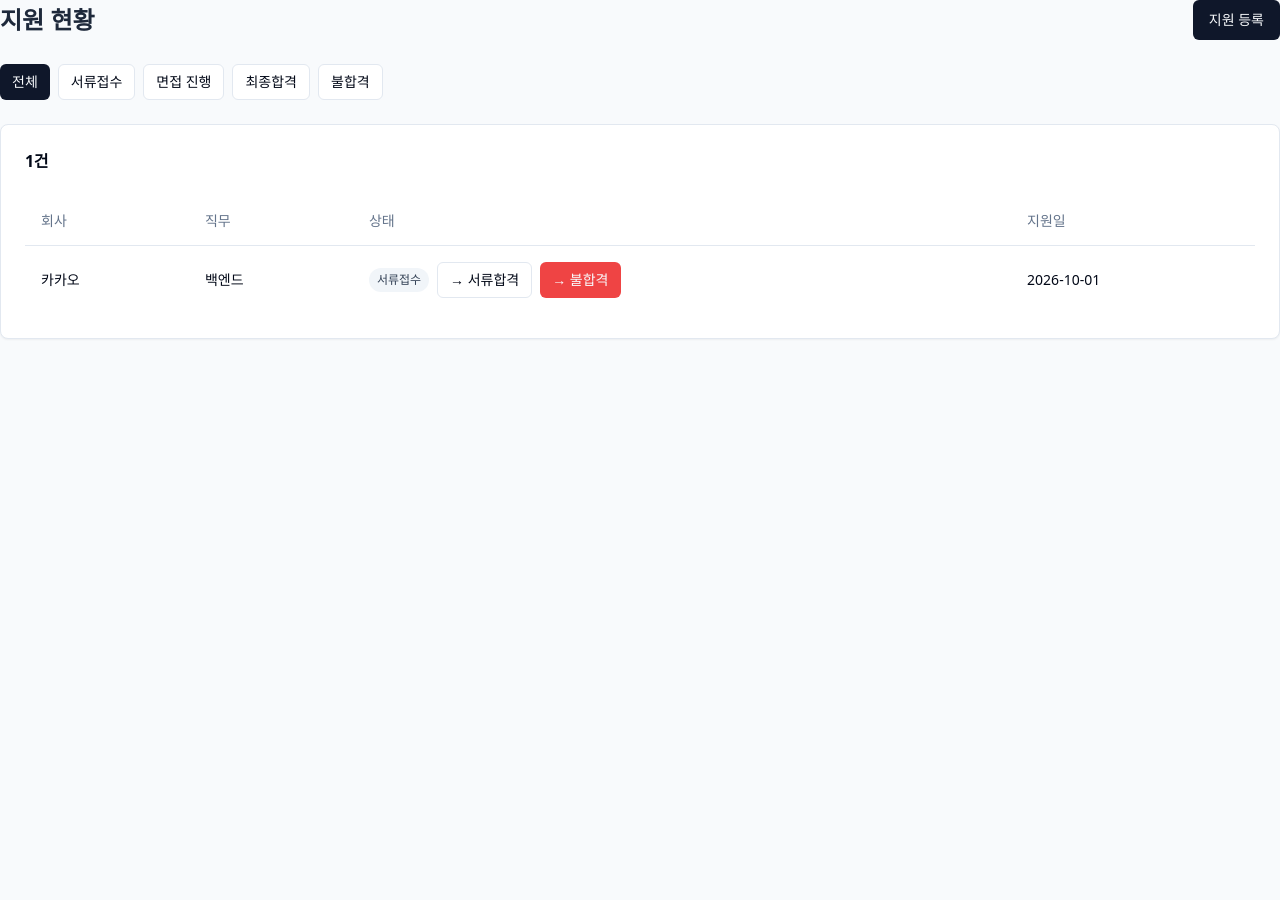
Scenario: Applications › 서류합격으로 변경하면 면접 일정 등록 창을 띄운다
What coordinates should you click on to do the following:
click the button "→ 서류합격"
I would click on:
 (485, 280)
Its box is [437, 262, 532, 298].
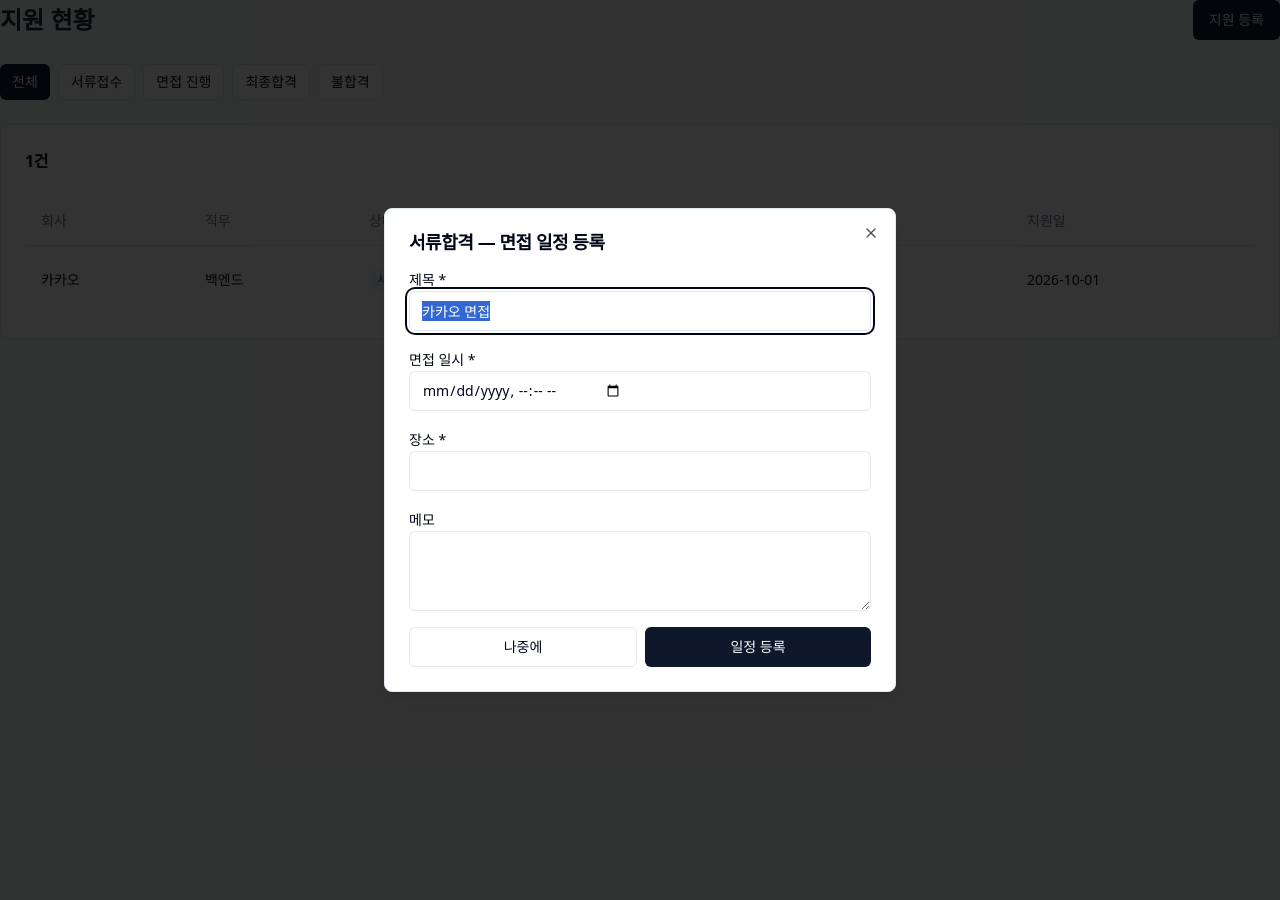
Now the heading "서류합격 — 면접 일정 등록" is shown, box [409, 230, 605, 254]
Now the field labelled "제목 *" holds "카카오 면접", box [409, 291, 871, 331]
